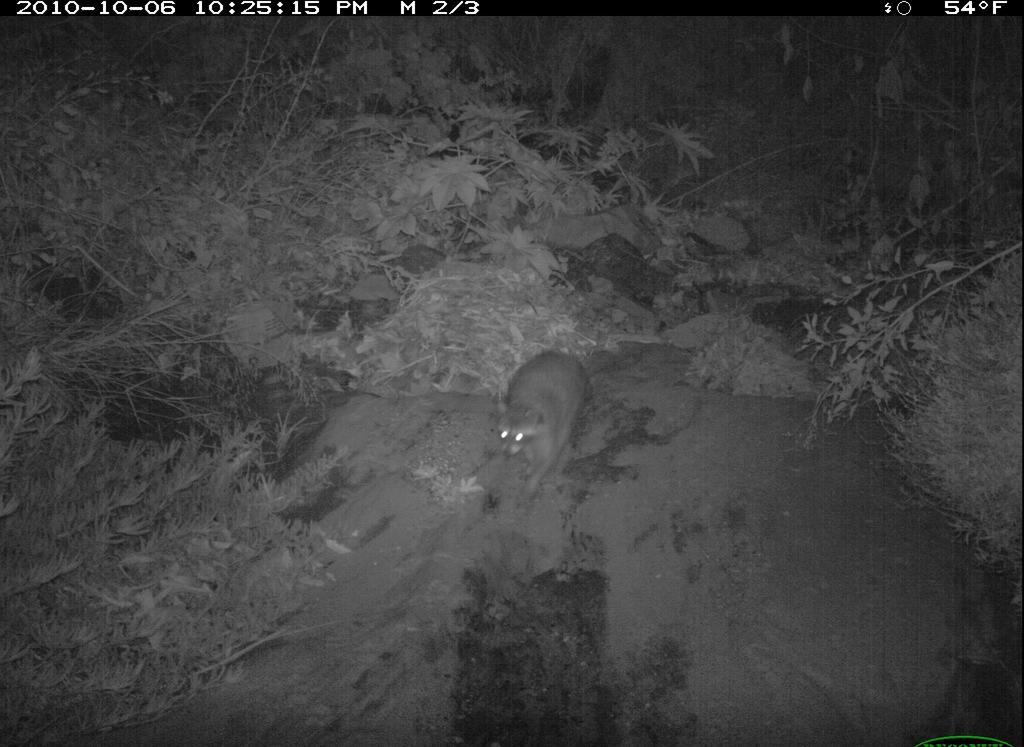raccoon: (483, 338, 621, 502)
